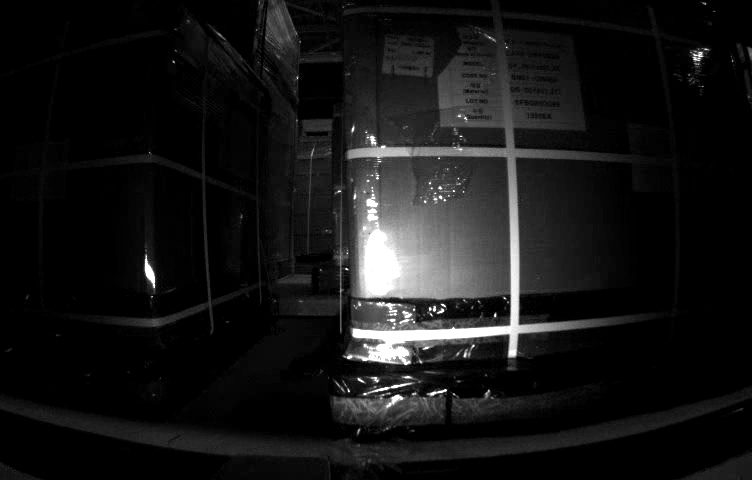True Barcode: (382, 33, 434, 79)
